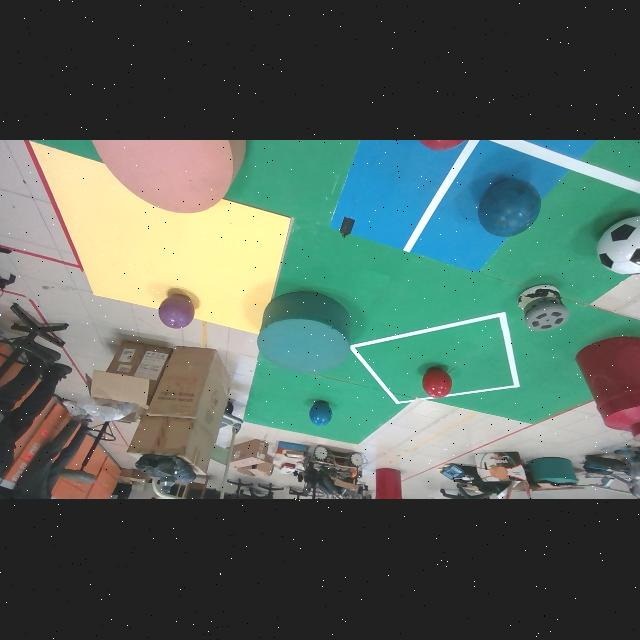B: (478, 179, 541, 238), (309, 402, 333, 427)
P: (158, 295, 194, 329)
R: (423, 368, 452, 398), (419, 140, 465, 151)
